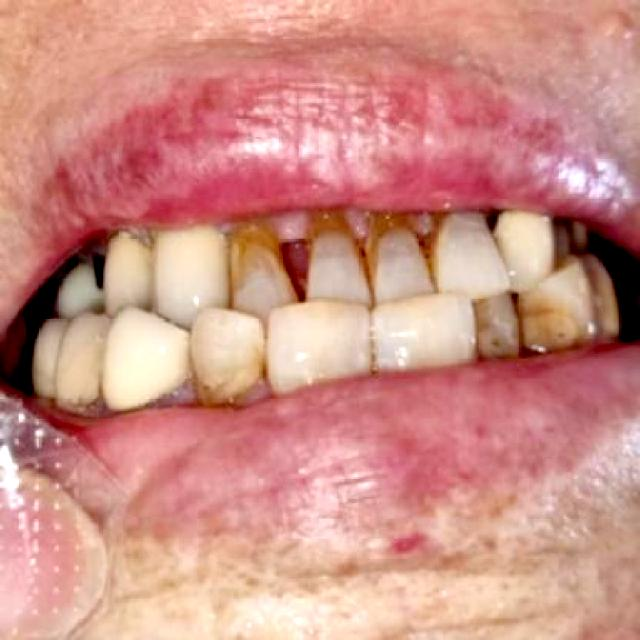Plaque: (189, 352, 266, 413), (514, 301, 585, 362), (467, 302, 513, 363)
